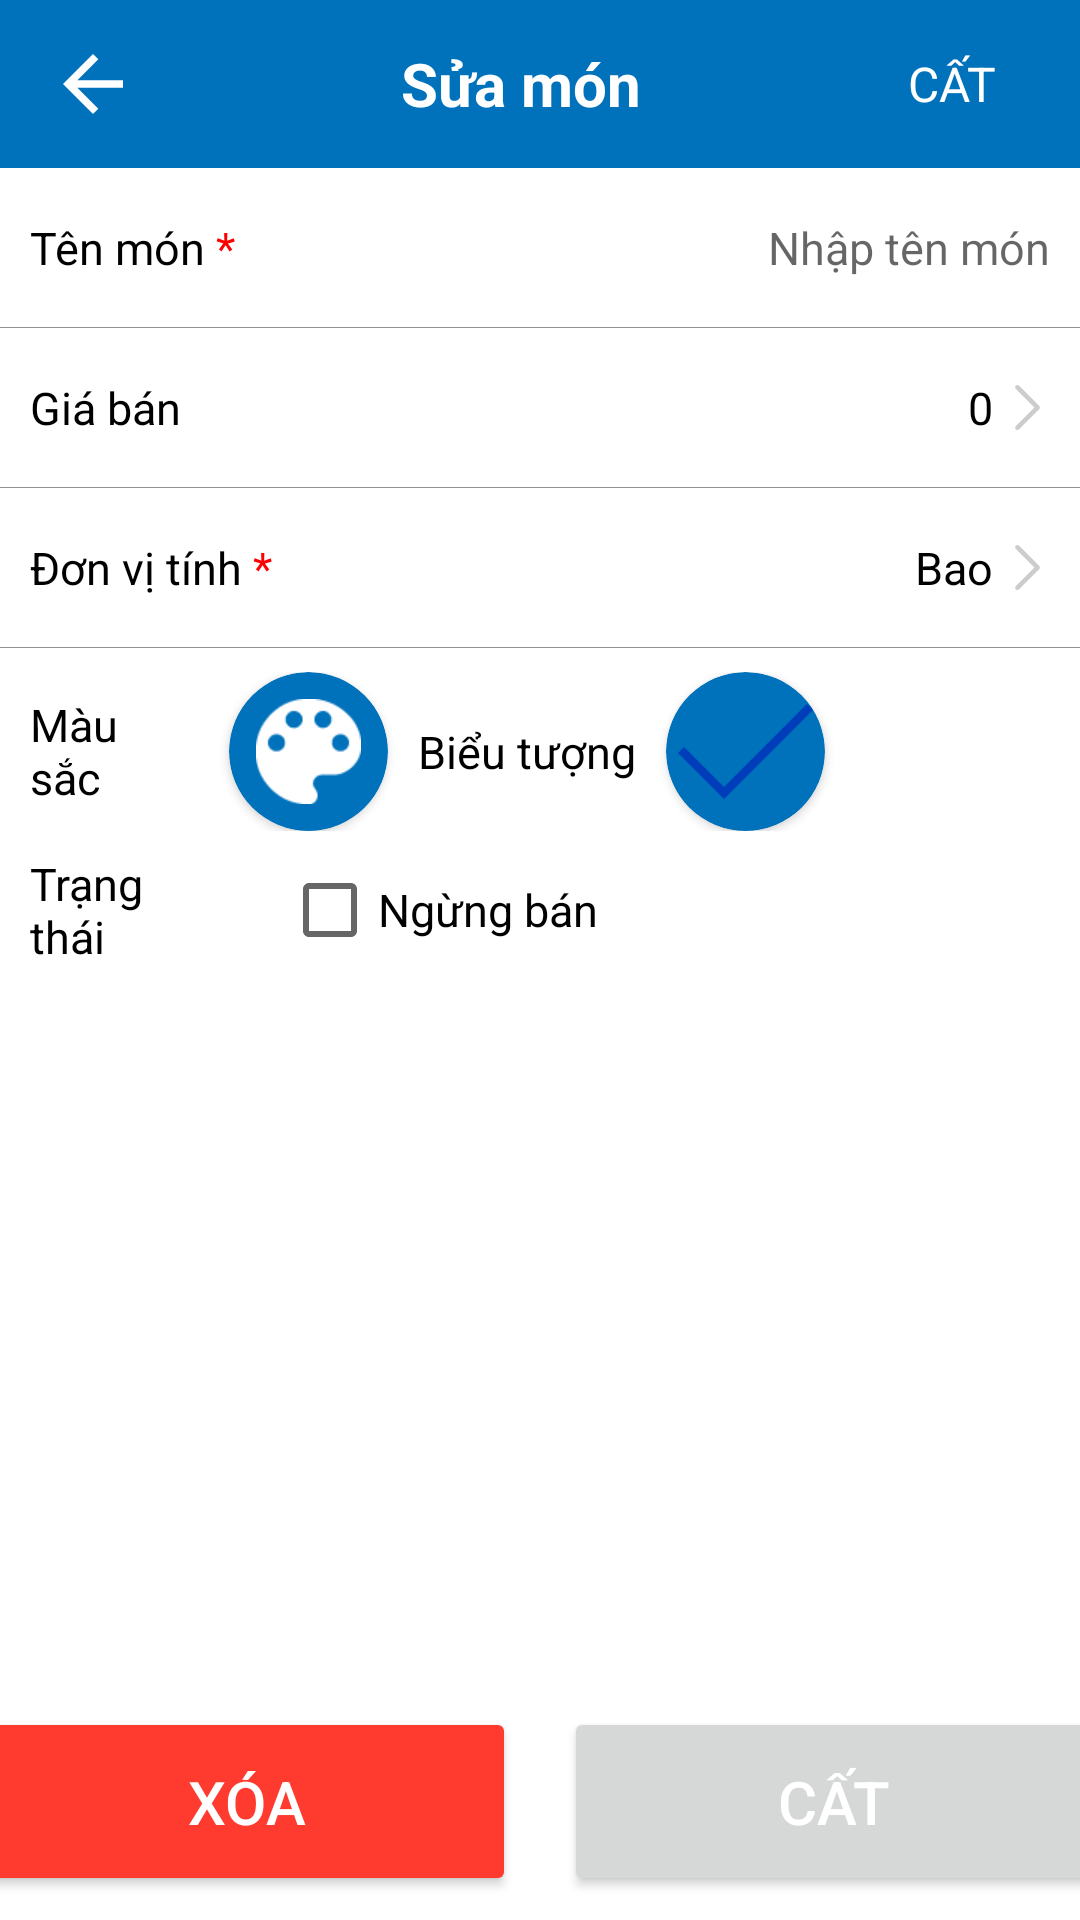

Icon click points for this 1080w x 1920h phone screenshot, format [x,y]:
tick: [745,751]
